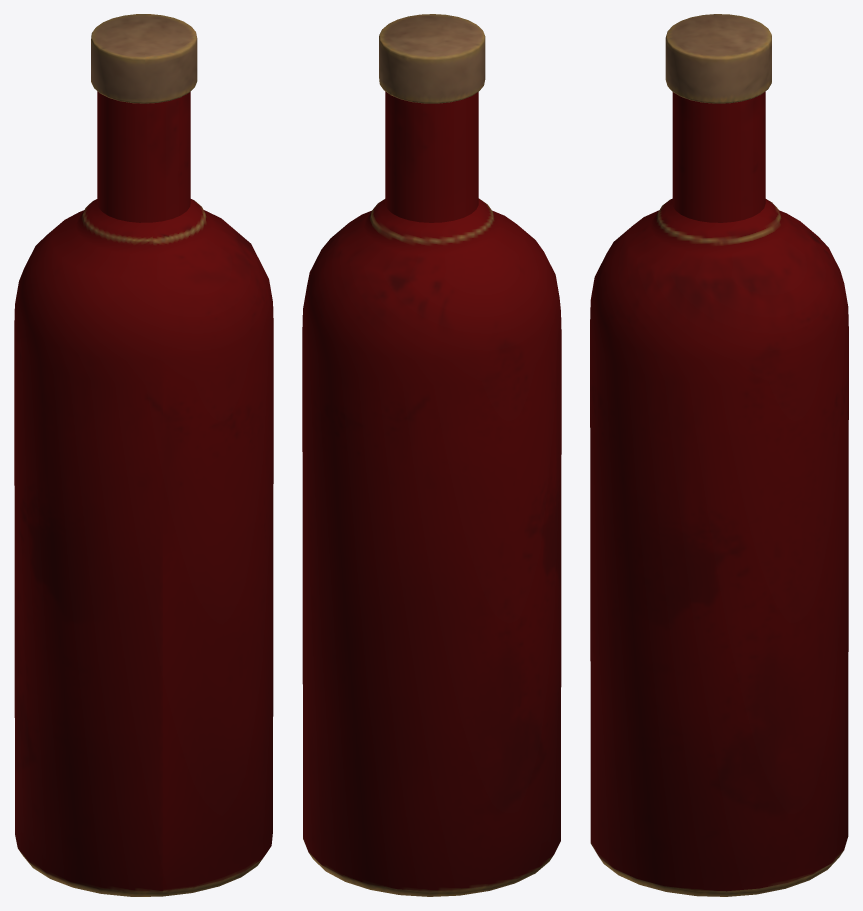
The model's file is SM_Bottle12.fbx.
The picture shows the model from 3 angles, left to right: view 1: azimuth 30°, elevation 25°; view 2: azimuth 150°, elevation 25°; view 3: azimuth 270°, elevation 25°; orthographic projection.
Parts seen in each view (by area): view 1: SM_Bottle12_LOD0; view 2: SM_Bottle12_LOD0; view 3: SM_Bottle12_LOD0.
Boxes of the visible parts, x1,y1,x2,y2 form: SM_Bottle12_LOD0: (14, 14, 273, 896); SM_Bottle12_LOD0: (302, 14, 561, 896); SM_Bottle12_LOD0: (590, 14, 848, 896).
Bounding box in the file's own units: 11.58 × 11.56 × 40.01.
Materials: 1 (1 with a texture image).
